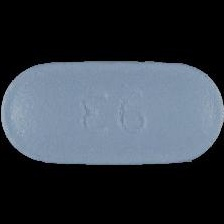42291-280: (0, 0, 224, 224)
